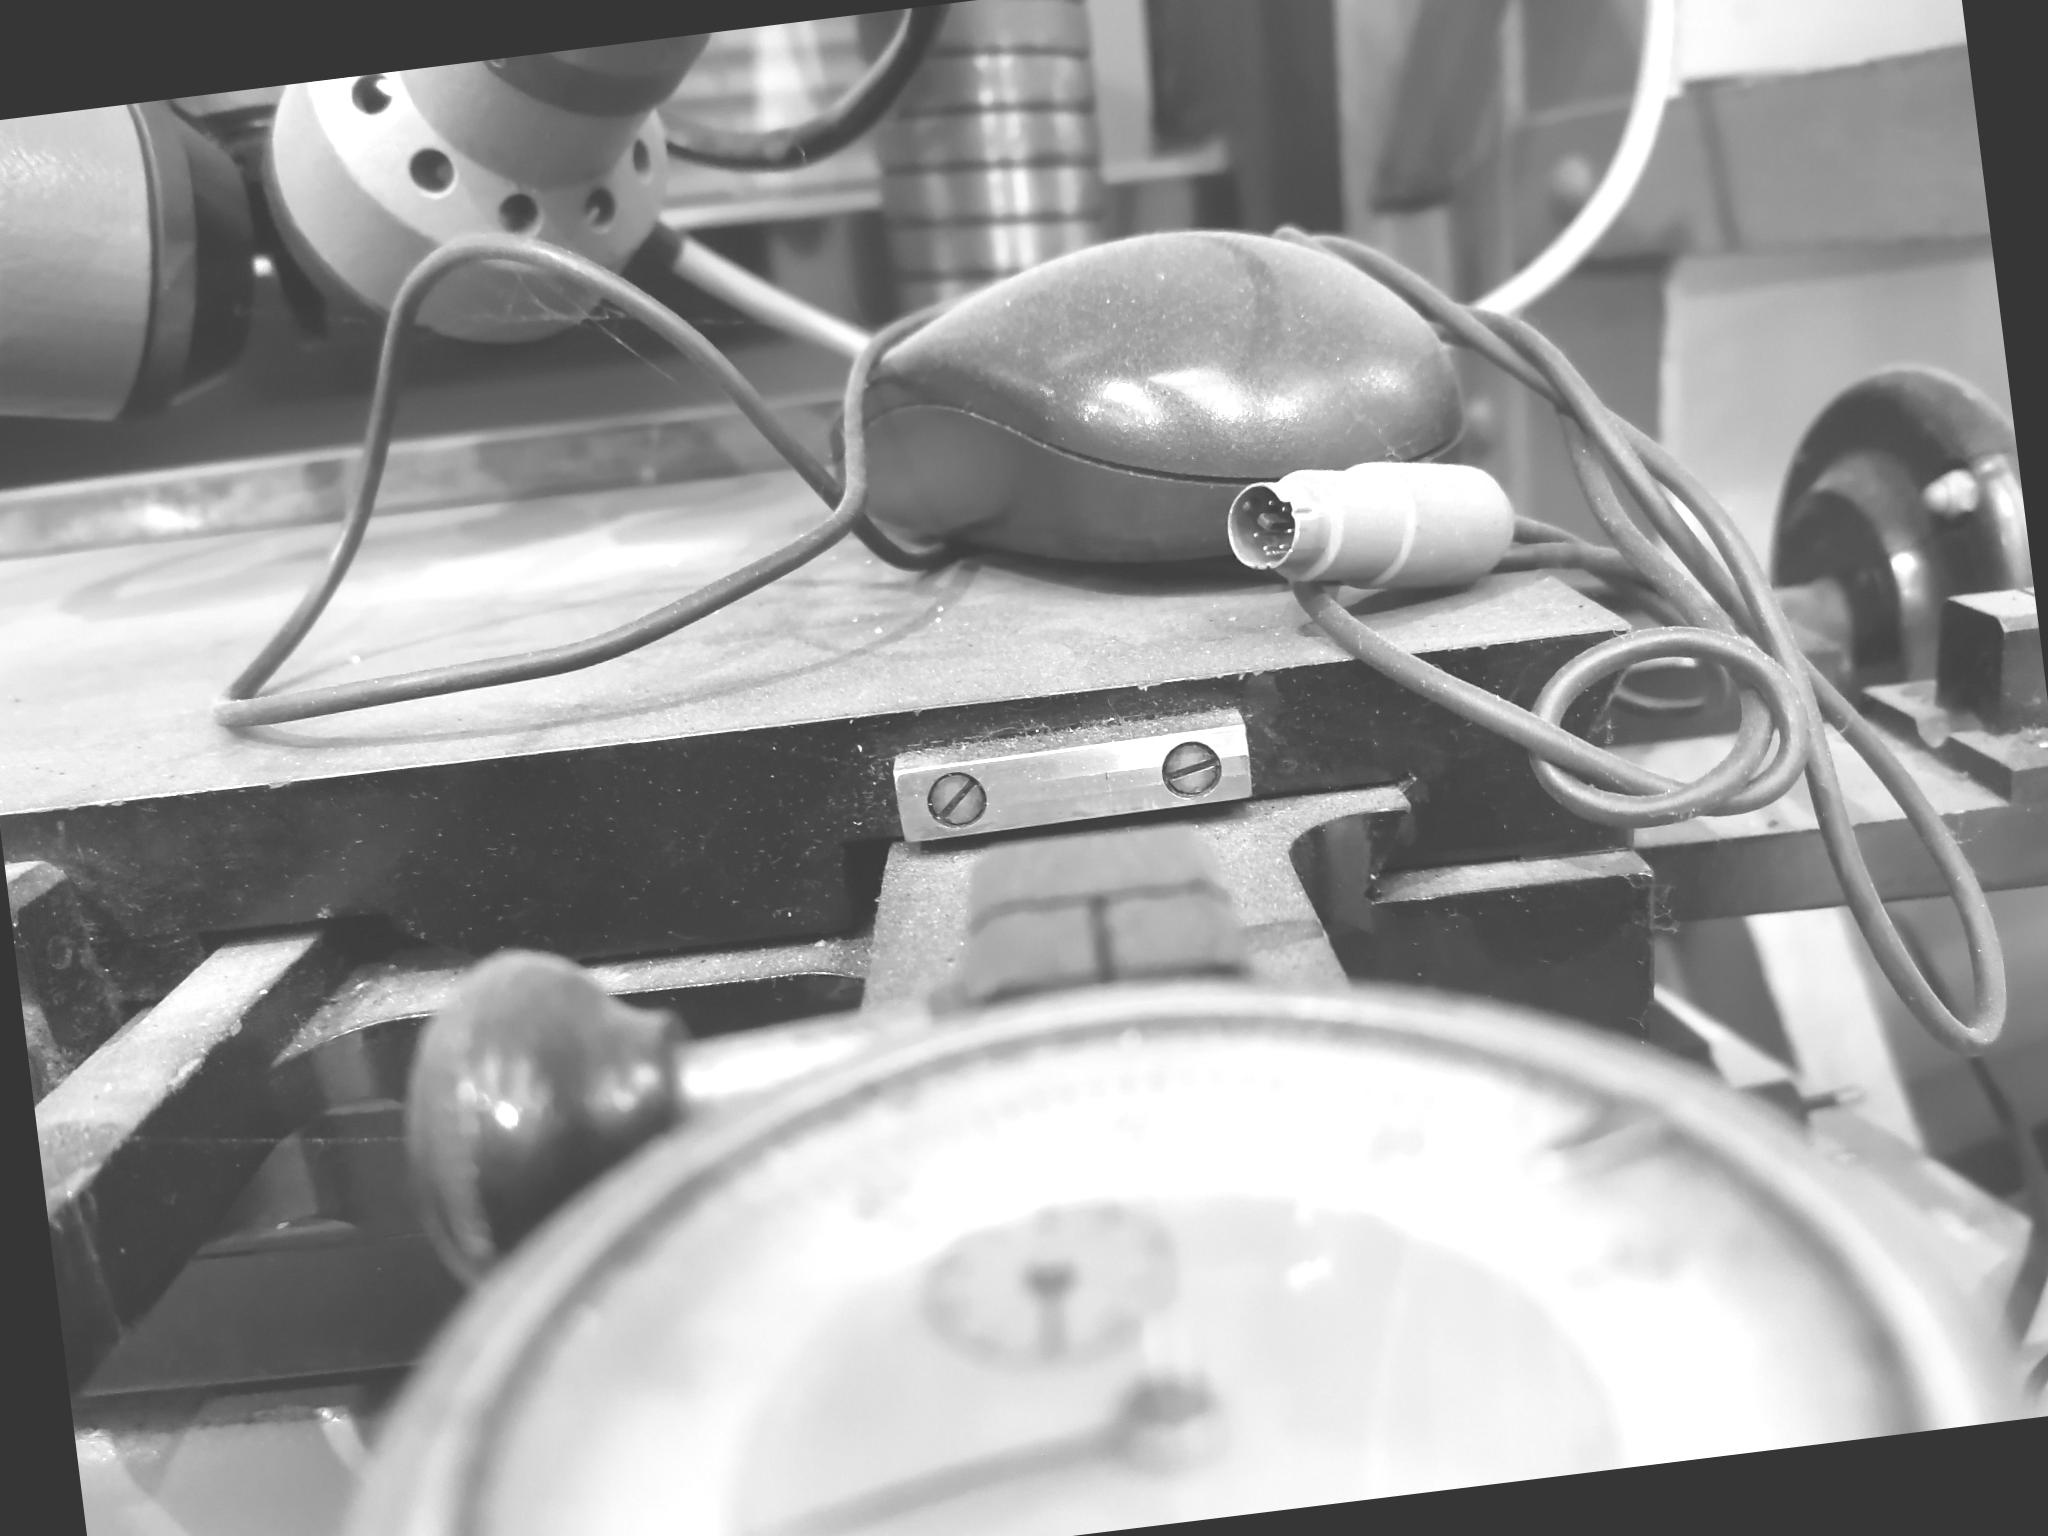slotted: (1156, 736, 1229, 807), (921, 763, 989, 831)
